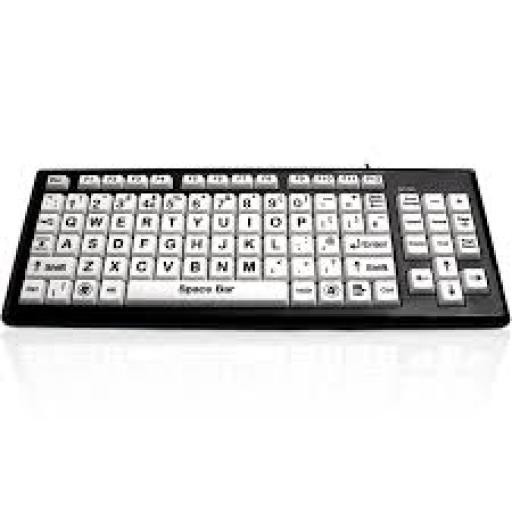keyboard: (7, 168, 507, 325)
